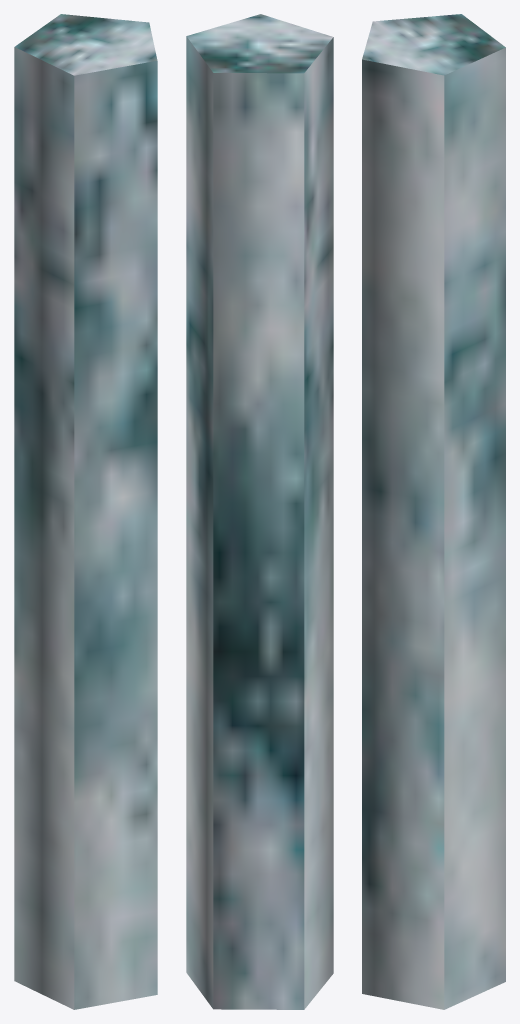
File: waterfall.FBX
The picture shows the model from 3 angles, left to right: view 1: azimuth 30°, elevation 25°; view 2: azimuth 150°, elevation 25°; view 3: azimuth 270°, elevation 25°; orthographic projection.
Visible parts, largest first — view 1: Cylinder001; view 2: Cylinder001; view 3: Cylinder001.
Part boxes in pixels (x1,y1,x2,y2): Cylinder001: [14, 14, 157, 1009]; Cylinder001: [186, 14, 333, 1009]; Cylinder001: [362, 14, 505, 1009].
Size of the model in its own units: 8.96 by 63.42 by 8.86.
Materials: 1 (1 with a texture image).
